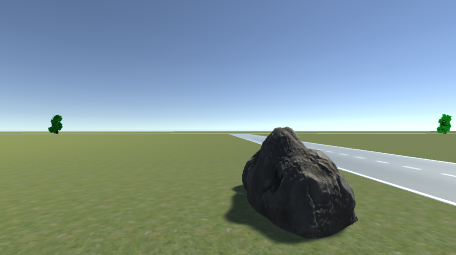rock: (241, 125, 358, 239)
tree: (437, 113, 452, 136), (48, 114, 63, 135)
